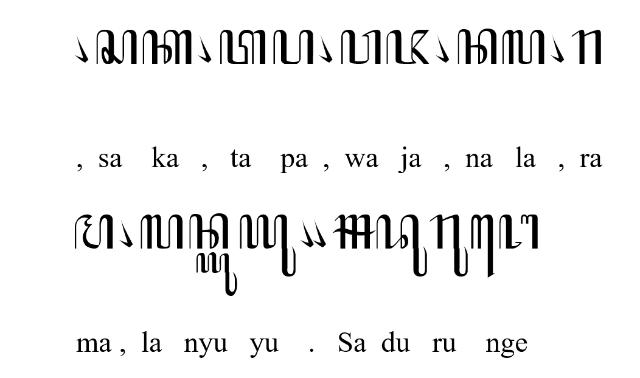S: (334, 214, 376, 250)
du: (376, 214, 428, 278)
e1: (470, 214, 494, 278)
j: (385, 28, 429, 64)
k: (142, 29, 192, 65)
kom: (196, 35, 212, 63), (549, 35, 565, 63), (310, 220, 326, 248), (435, 34, 449, 63), (74, 34, 88, 62), (118, 220, 132, 248), (300, 220, 314, 248), (318, 36, 332, 62)
l: (502, 29, 546, 65), (139, 214, 183, 250)
m: (74, 213, 114, 250)
n: (188, 213, 230, 250), (458, 29, 497, 65)
nga: (499, 213, 539, 250)
p: (340, 29, 382, 65), (272, 30, 314, 64)
r: (570, 29, 602, 65)
ru: (429, 214, 468, 278)
s: (96, 29, 138, 65)
t: (220, 29, 266, 65)
yu: (240, 213, 296, 277), (196, 253, 238, 297)
